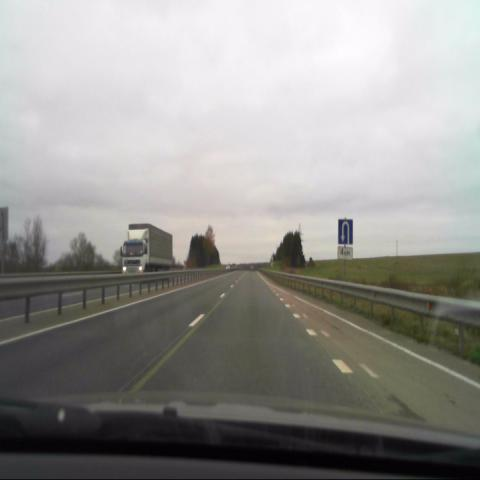6_3_1: (338, 219, 353, 244)
